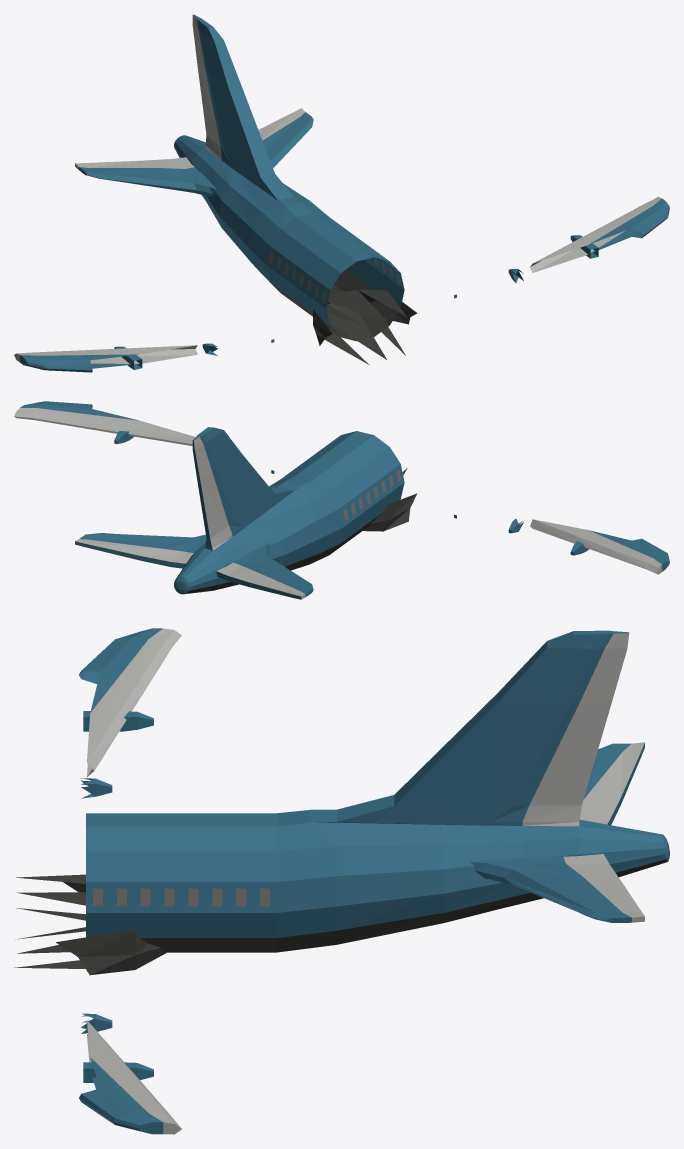
The model's file is staging_aircraft_tail.obj.
3 renders of one model, top to bottom at view 1: azimuth 30°, elevation 25°; view 2: azimuth 150°, elevation 25°; view 3: azimuth 270°, elevation 25°, orthographic. The views are drawn at different scales.
Bounding box in the file's own units: 27.47 × 8.34 × 15.42.
